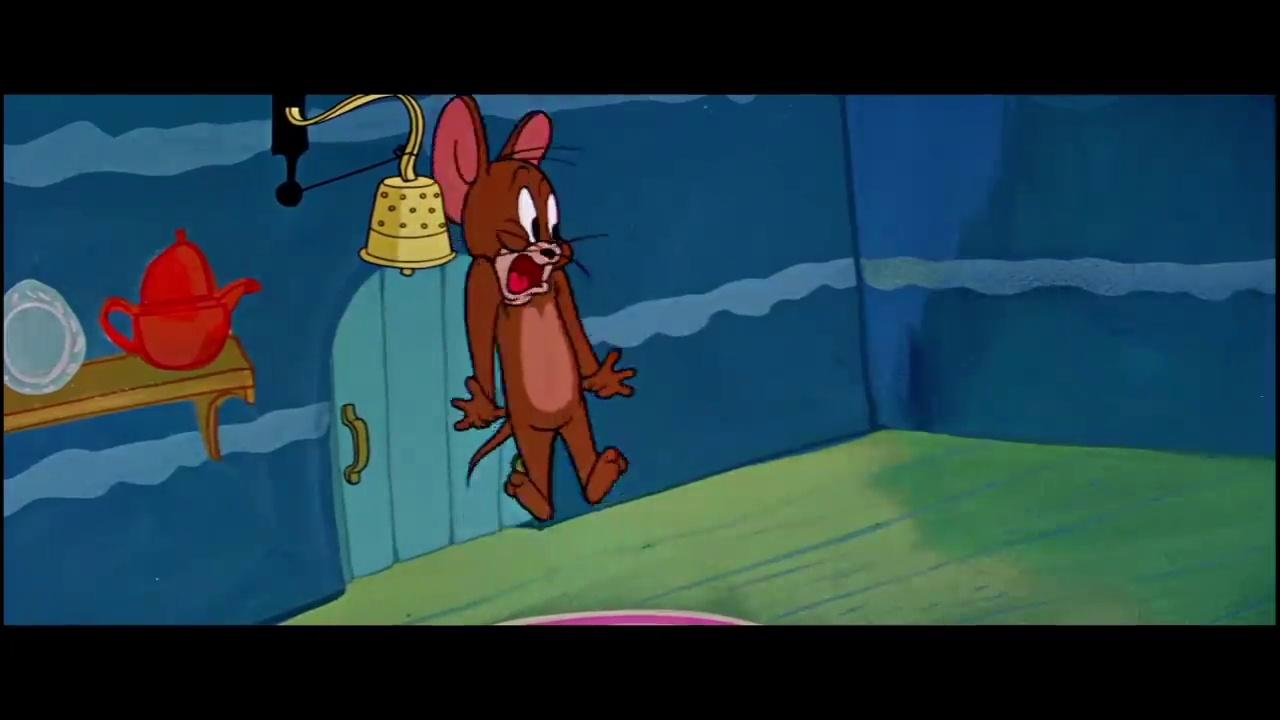Jerry: (428, 93, 638, 526)
